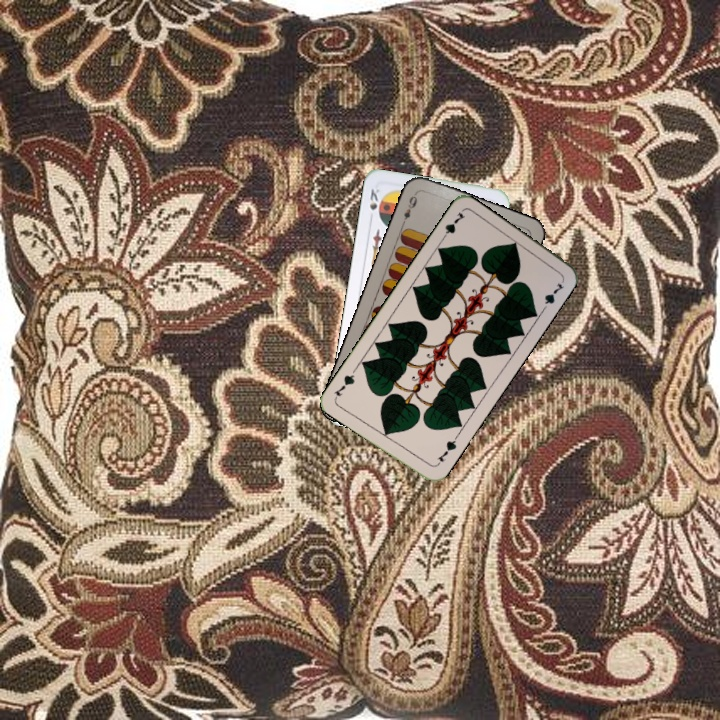E9: (398, 189, 420, 228)
G7: (437, 208, 468, 244), (433, 432, 460, 464)
SK: (365, 185, 384, 224)
